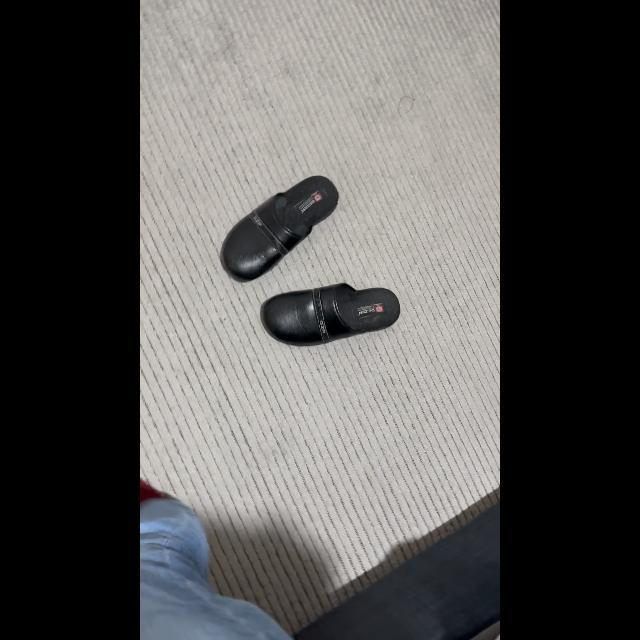slipper: (216, 165, 344, 282), (258, 275, 408, 353)
